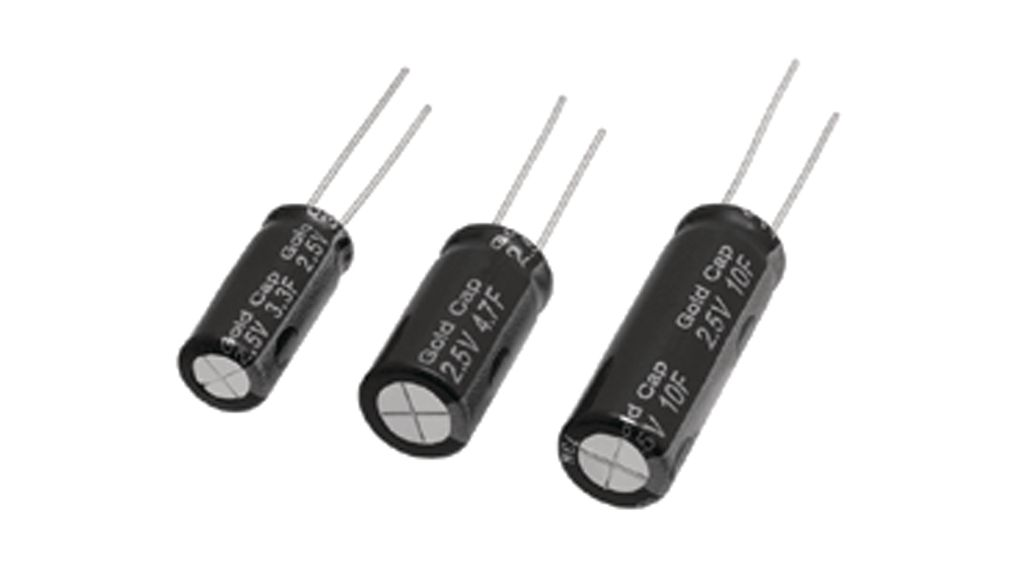capacitor: (549, 150, 799, 554), (351, 169, 555, 488), (160, 107, 364, 421)
